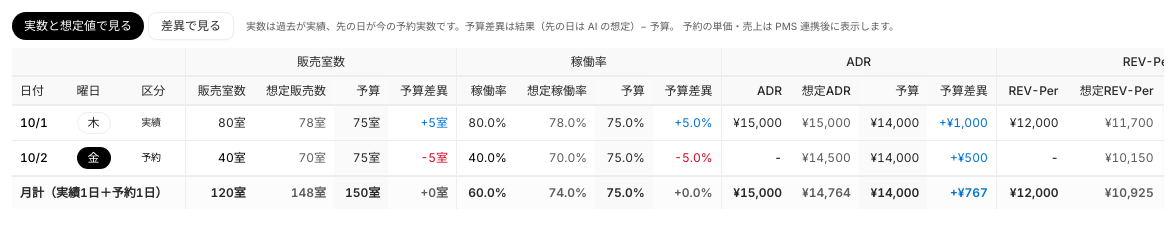
Scenario: DailyVarianceTable › 差異で見るに切り替えると、予算差異・AI想定差異・前年比を出す（稼働率は % 表記）
Click the button "差異で見る": (191, 26) top-left (148, 12), bottom-right (234, 40)
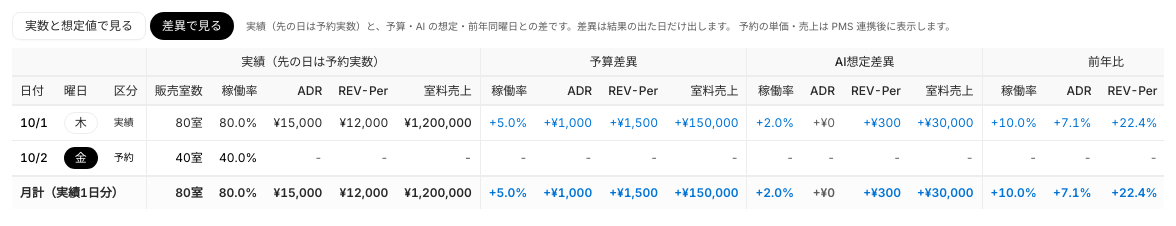
Check: the cell "40室" is shown, box top-left (146, 140), bottom-right (211, 176)
Check: the column heading "AI想定差異" is shown, box top-left (747, 48), bottom-right (982, 76)
